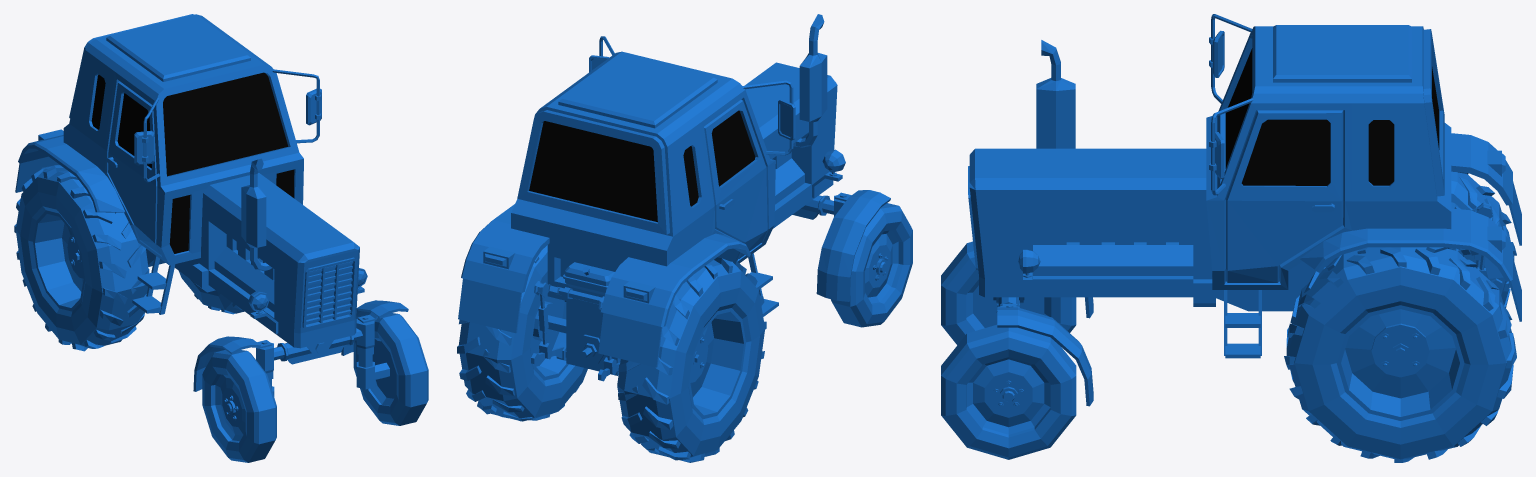
Rendered from SM_tractor.fbx.
3 views of the same model, side by side, from view 1: azimuth 30°, elevation 25°; view 2: azimuth 150°, elevation 25°; view 3: azimuth 270°, elevation 25° (orthographic). The views are drawn at different scales.
Visible parts, largest first — view 1: Cube_6, Cylinder_4, Cylinder_3, Cylinder; view 2: Cube_6, Cylinder_4, Cylinder_3; view 3: Cube_6, Cylinder_4, Cylinder, Cylinder_3.
Boxes of the visible parts, x1=… form: Cube_6: x1=15, y1=14, x2=408, y2=396; Cylinder_4: x1=14, y1=165, x2=244, y2=351; Cylinder_3: x1=202, y1=350, x2=276, y2=462; Cylinder: x1=353, y1=313, x2=428, y2=425; Cube_6: x1=458, y1=14, x2=890, y2=381; Cylinder_4: x1=457, y1=245, x2=766, y2=462; Cylinder_3: x1=830, y1=203, x2=912, y2=327; Cube_6: x1=968, y1=14, x2=1521, y2=406; Cylinder_4: x1=1284, y1=171, x2=1516, y2=462; Cylinder: x1=941, y1=324, x2=1076, y2=459; Cylinder_3: x1=941, y1=241, x2=1076, y2=345.
Bounding box in the file's own units: 197 × 281 × 410.
